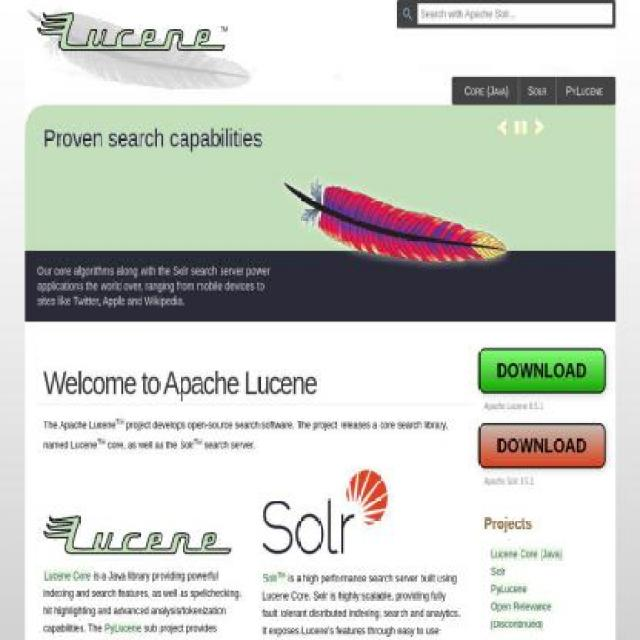button: (477, 349, 606, 393), (477, 424, 606, 468), (490, 599, 552, 632), (455, 76, 519, 105), (556, 76, 613, 105), (518, 76, 557, 105), (490, 547, 564, 561), (43, 568, 91, 583), (530, 117, 548, 151), (493, 117, 510, 151), (104, 620, 142, 635), (512, 117, 528, 151), (490, 582, 528, 596), (262, 570, 286, 585), (490, 564, 507, 578), (256, 468, 258, 483), (37, 468, 38, 483)
field: (417, 3, 612, 25)
